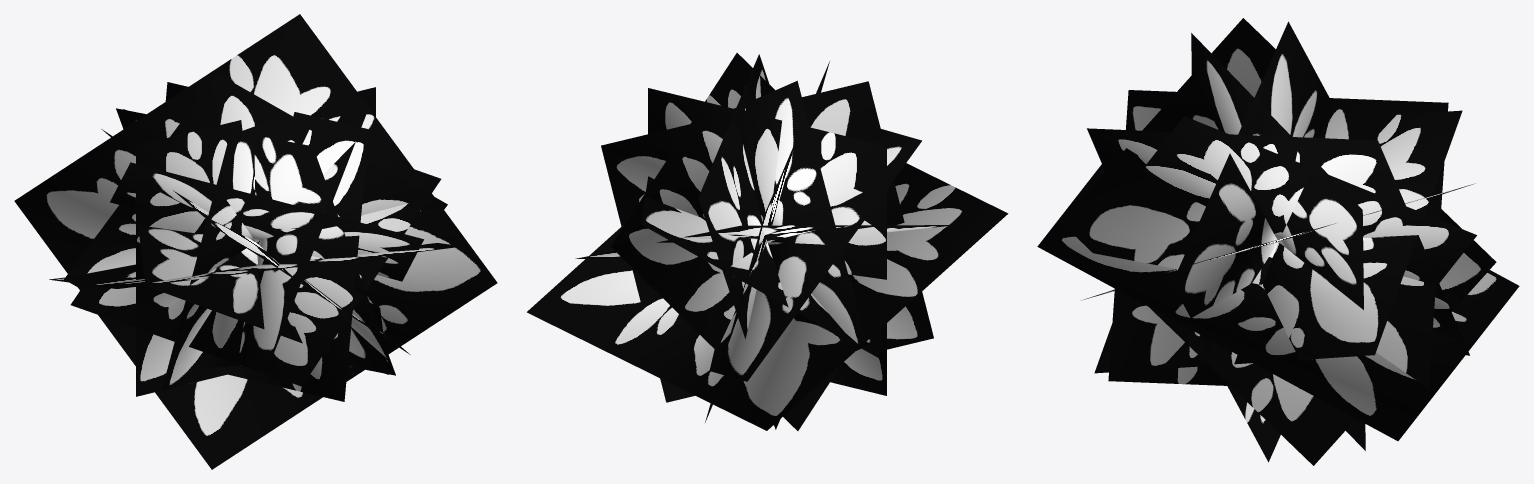
File: tree foliage.fbx
3 views of the same model, side by side, from view 1: azimuth 30°, elevation 25°; view 2: azimuth 150°, elevation 25°; view 3: azimuth 270°, elevation 25° (orthographic). The views are drawn at different scales.
Visible parts, largest first — view 1: Foliage Plane; view 2: Foliage Plane; view 3: Foliage Plane.
Boxes of the visible parts, <box> form: Foliage Plane: <box>14,14,497,469</box>; Foliage Plane: <box>527,53,1008,430</box>; Foliage Plane: <box>1037,18,1519,465</box>.
Size of the model in its own units: 318 by 347 by 301.
